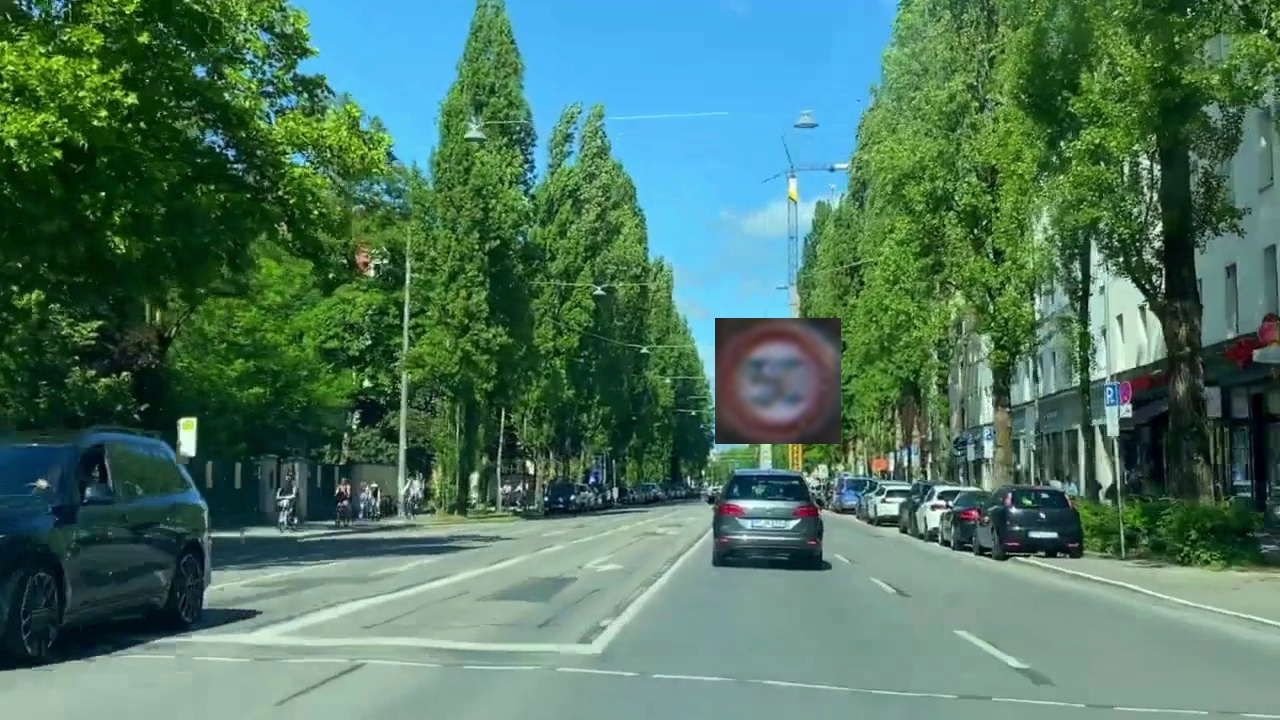Speed 50: (715, 318, 841, 444)
